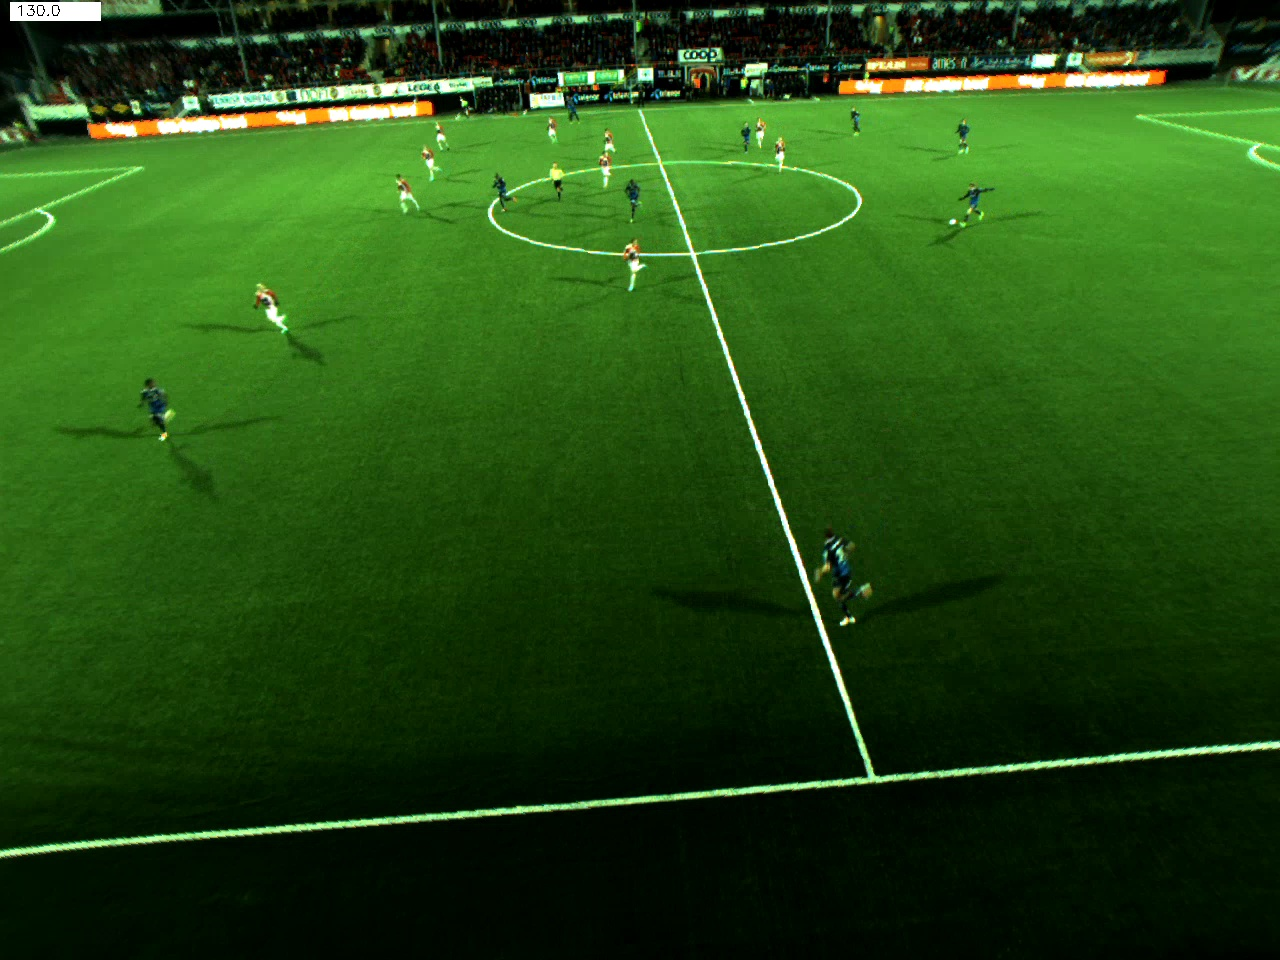blue: (812, 530, 880, 628), (137, 371, 176, 446), (959, 184, 995, 231), (489, 172, 521, 215), (624, 179, 647, 225), (953, 117, 974, 156), (842, 109, 864, 140), (565, 98, 583, 130), (738, 120, 751, 151)
red: (254, 282, 294, 341), (620, 237, 655, 301), (388, 170, 420, 219), (771, 131, 796, 174), (417, 147, 445, 178), (595, 150, 615, 186), (598, 125, 619, 158), (431, 122, 455, 152), (543, 113, 560, 148), (755, 116, 767, 155)
yellow: (546, 158, 572, 203)
